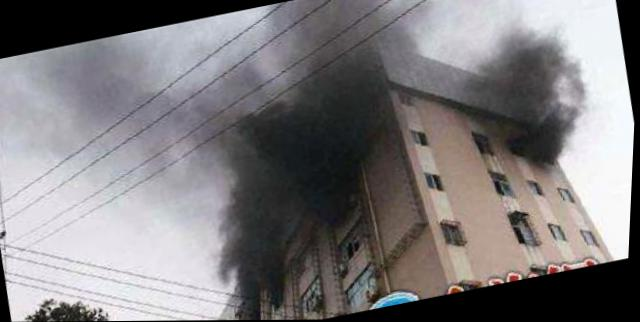smoke: (481, 17, 599, 163), (197, 165, 310, 294), (228, 87, 377, 170), (289, 148, 375, 229)
